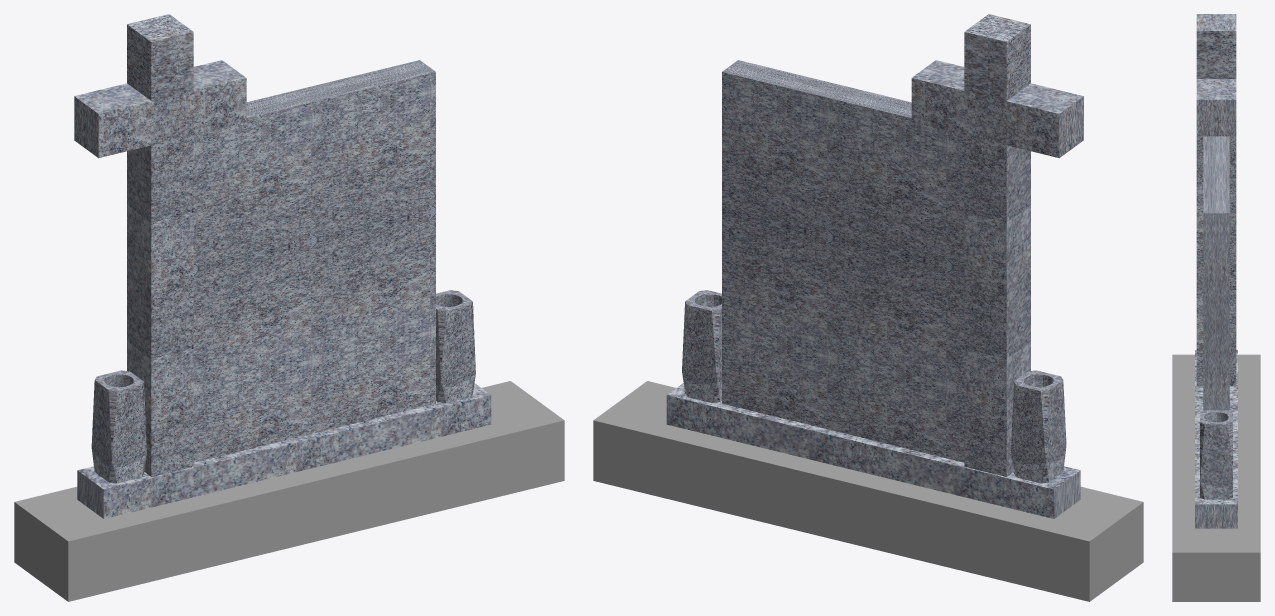
File: monument-51-castaniu.glb
The picture shows the model from 3 angles, left to right: view 1: azimuth 30°, elevation 25°; view 2: azimuth 150°, elevation 25°; view 3: azimuth 270°, elevation 25°; orthographic projection. The views are drawn at different scales.
Visible parts, largest first — view 1: Box (×3), Box 3, Box 1, Group, Box 2; view 2: Box (×3), Box 3, Box 1, Group, Box 2; view 3: Box (×3), Group, Box 3, Box 2, Box 1.
Part boxes in pixels (x1=…): Box (×3): x1=14, y1=60, x2=564, y2=601; Box 3: x1=77, y1=383, x2=491, y2=518; Box 1: x1=74, y1=60, x2=246, y2=158; Group: x1=91, y1=290, x2=475, y2=483; Box 2: x1=127, y1=14, x2=193, y2=100; Box (×3): x1=593, y1=60, x2=1143, y2=601; Box 3: x1=666, y1=383, x2=1080, y2=518; Box 1: x1=911, y1=60, x2=1083, y2=158; Group: x1=682, y1=290, x2=1066, y2=483; Box 2: x1=964, y1=14, x2=1030, y2=100; Box (×3): x1=1172, y1=136, x2=1260, y2=601; Group: x1=1200, y1=410, x2=1232, y2=499; Box 3: x1=1195, y1=350, x2=1237, y2=528; Box 2: x1=1196, y1=14, x2=1236, y2=78; Box 1: x1=1196, y1=79, x2=1236, y2=136.
Bounding box in the file's own units: 141 × 142 × 26.57.
Materials: 8 (7 with a texture image).
